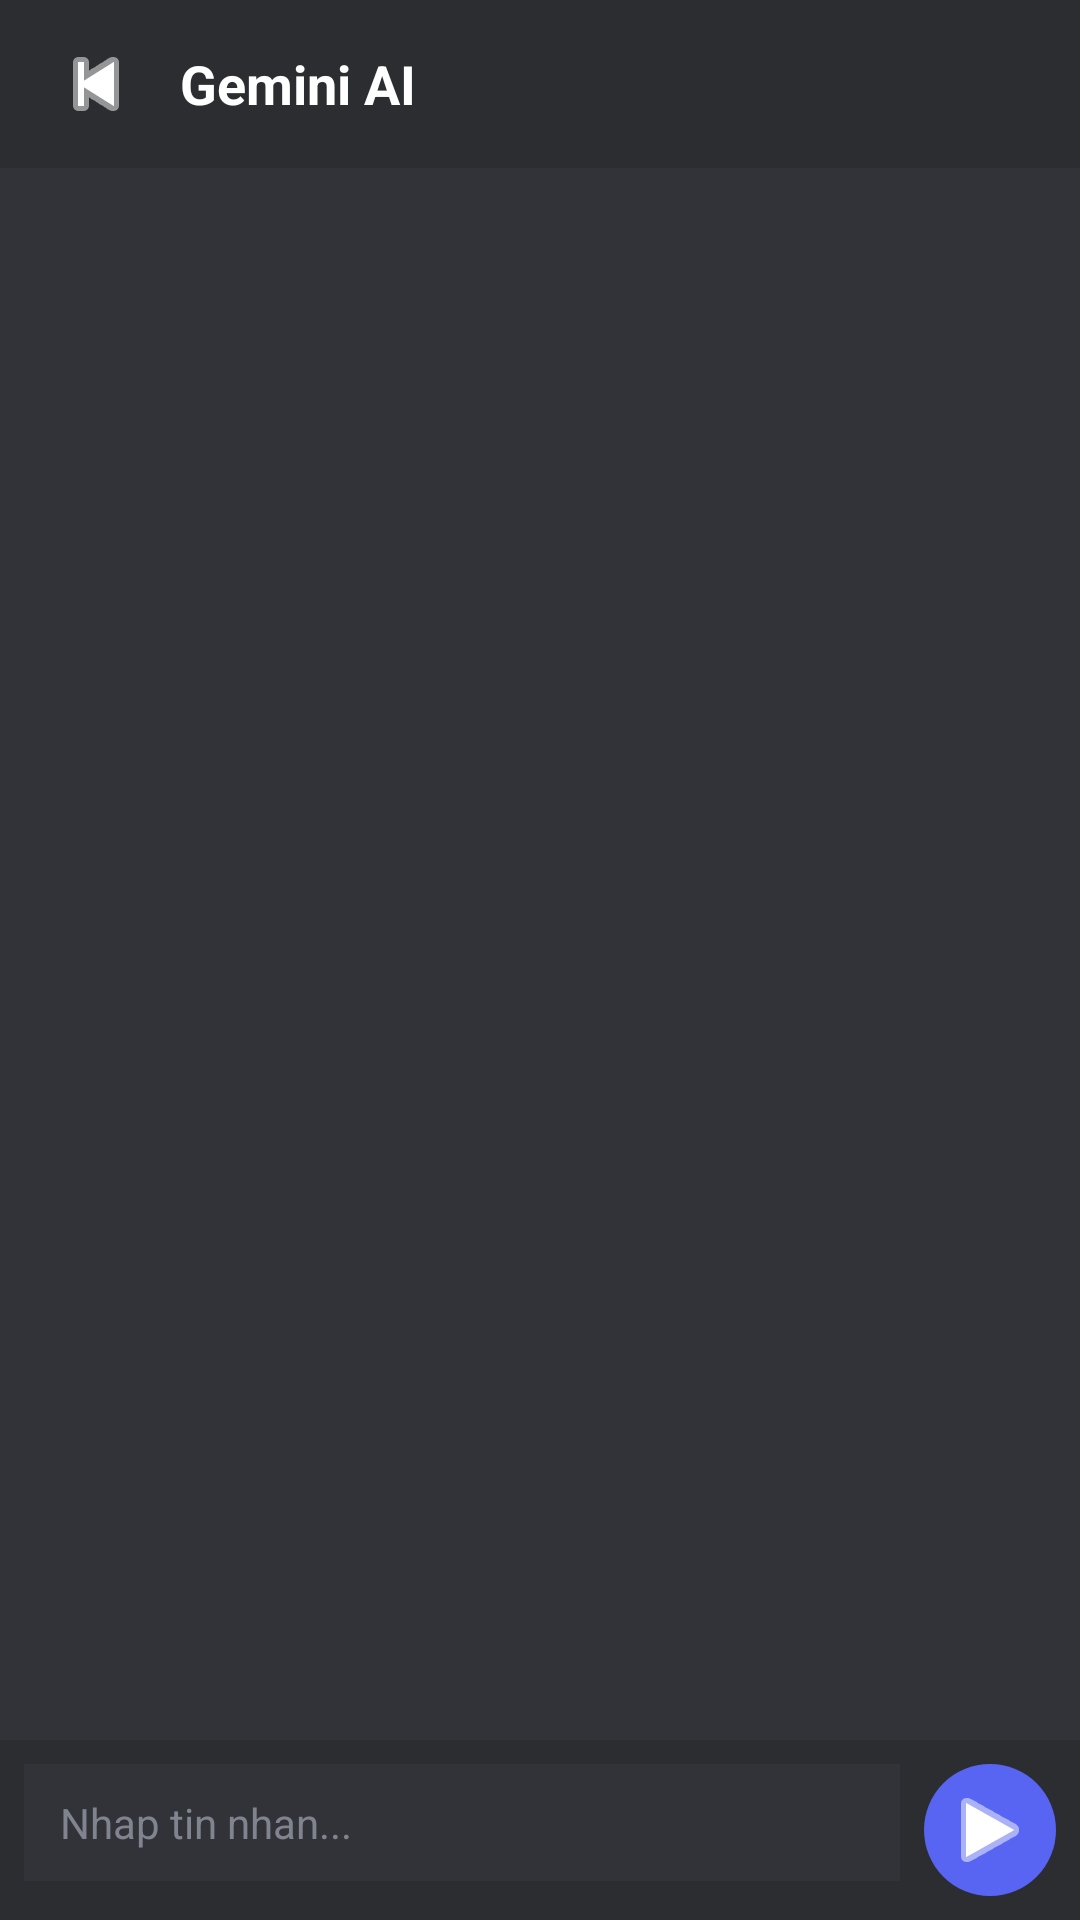

Named icons in this screenshot (1080*1920) and their centers, point (x, y):
play: point (990, 1830)
previous: point (96, 84)
